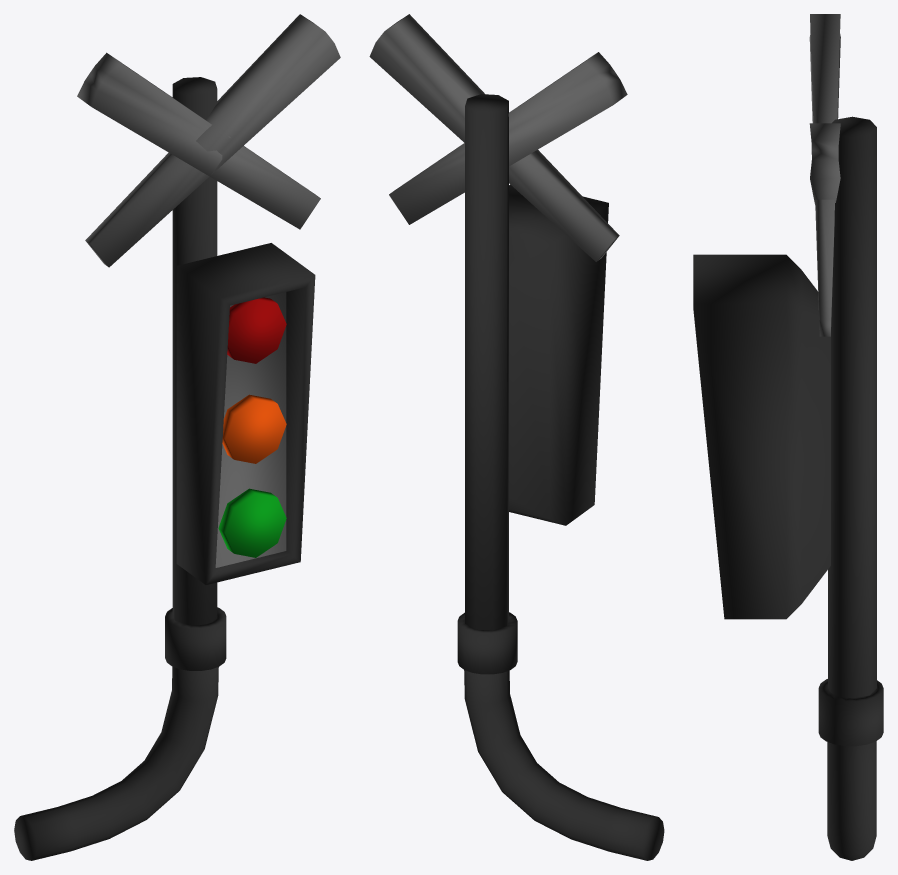
The model's file is TrafficLight2OBJ.obj.
3 renders of one model, left to right at view 1: azimuth 30°, elevation 25°; view 2: azimuth 150°, elevation 25°; view 3: azimuth 270°, elevation 25°, orthographic. The views are drawn at different scales.
Visible parts, largest first — view 1: TrafficLight; view 2: TrafficLight; view 3: TrafficLight.
Part boxes in pixels (x1,y1,x2,y2): TrafficLight: (14, 14, 340, 860); TrafficLight: (369, 14, 664, 860); TrafficLight: (693, 14, 883, 860).
Bounding box in the file's own units: 3.23 × 8.27 × 1.7.
